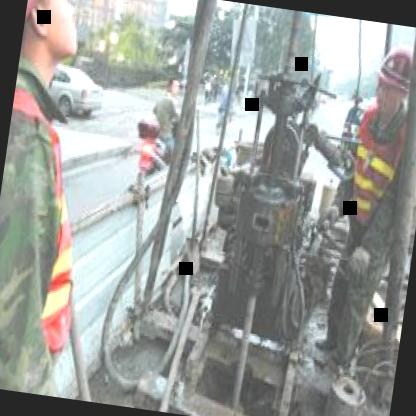helmet: (15, 0, 98, 94), (373, 38, 415, 110)
